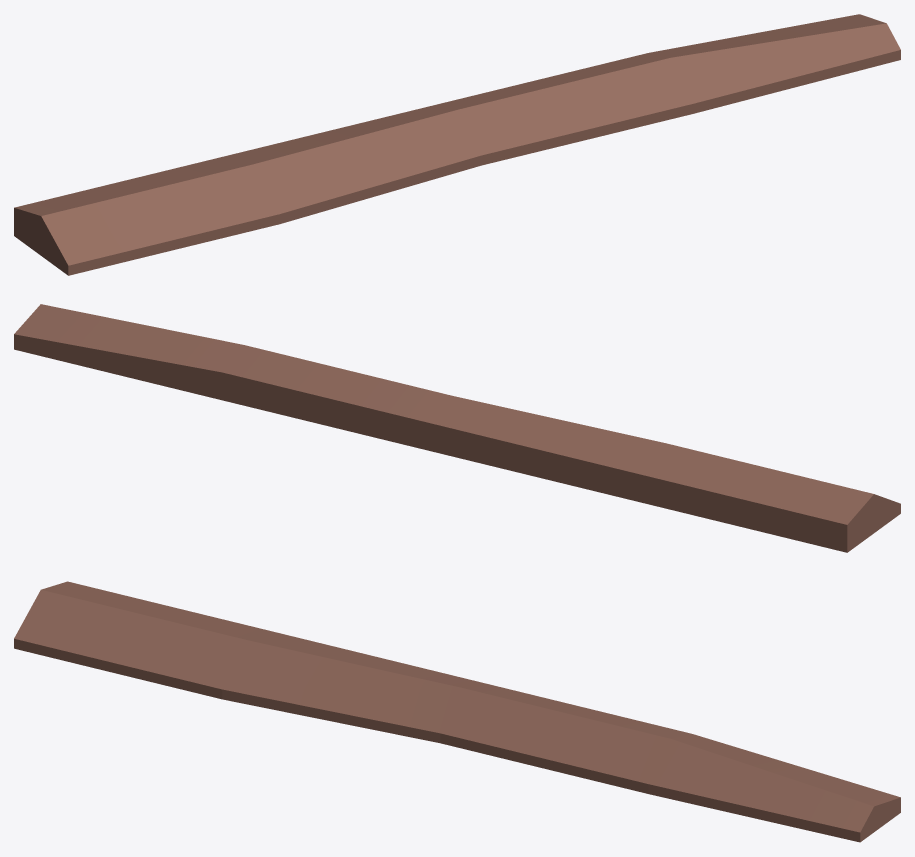
Rendered from SM_Wooden_Plank_Railing_01.fbx.
3 renders of one model, top to bottom at view 1: azimuth 30°, elevation 25°; view 2: azimuth 150°, elevation 25°; view 3: azimuth 330°, elevation 25°, orthographic.
Parts seen in each view (by area): view 1: Wooden_Plank_Railing_01; view 2: Wooden_Plank_Railing_01; view 3: Wooden_Plank_Railing_01.
Part boxes in pixels (x1,y1,x2,y2): Wooden_Plank_Railing_01: (14, 14, 900, 275); Wooden_Plank_Railing_01: (14, 304, 900, 552); Wooden_Plank_Railing_01: (14, 581, 900, 842).
Size of the model in its own units: 119 by 5.33 by 13.21.
